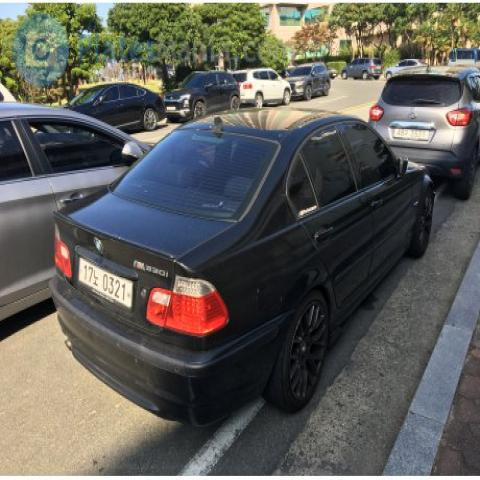LP: (65, 255, 144, 319), (388, 117, 437, 150)
